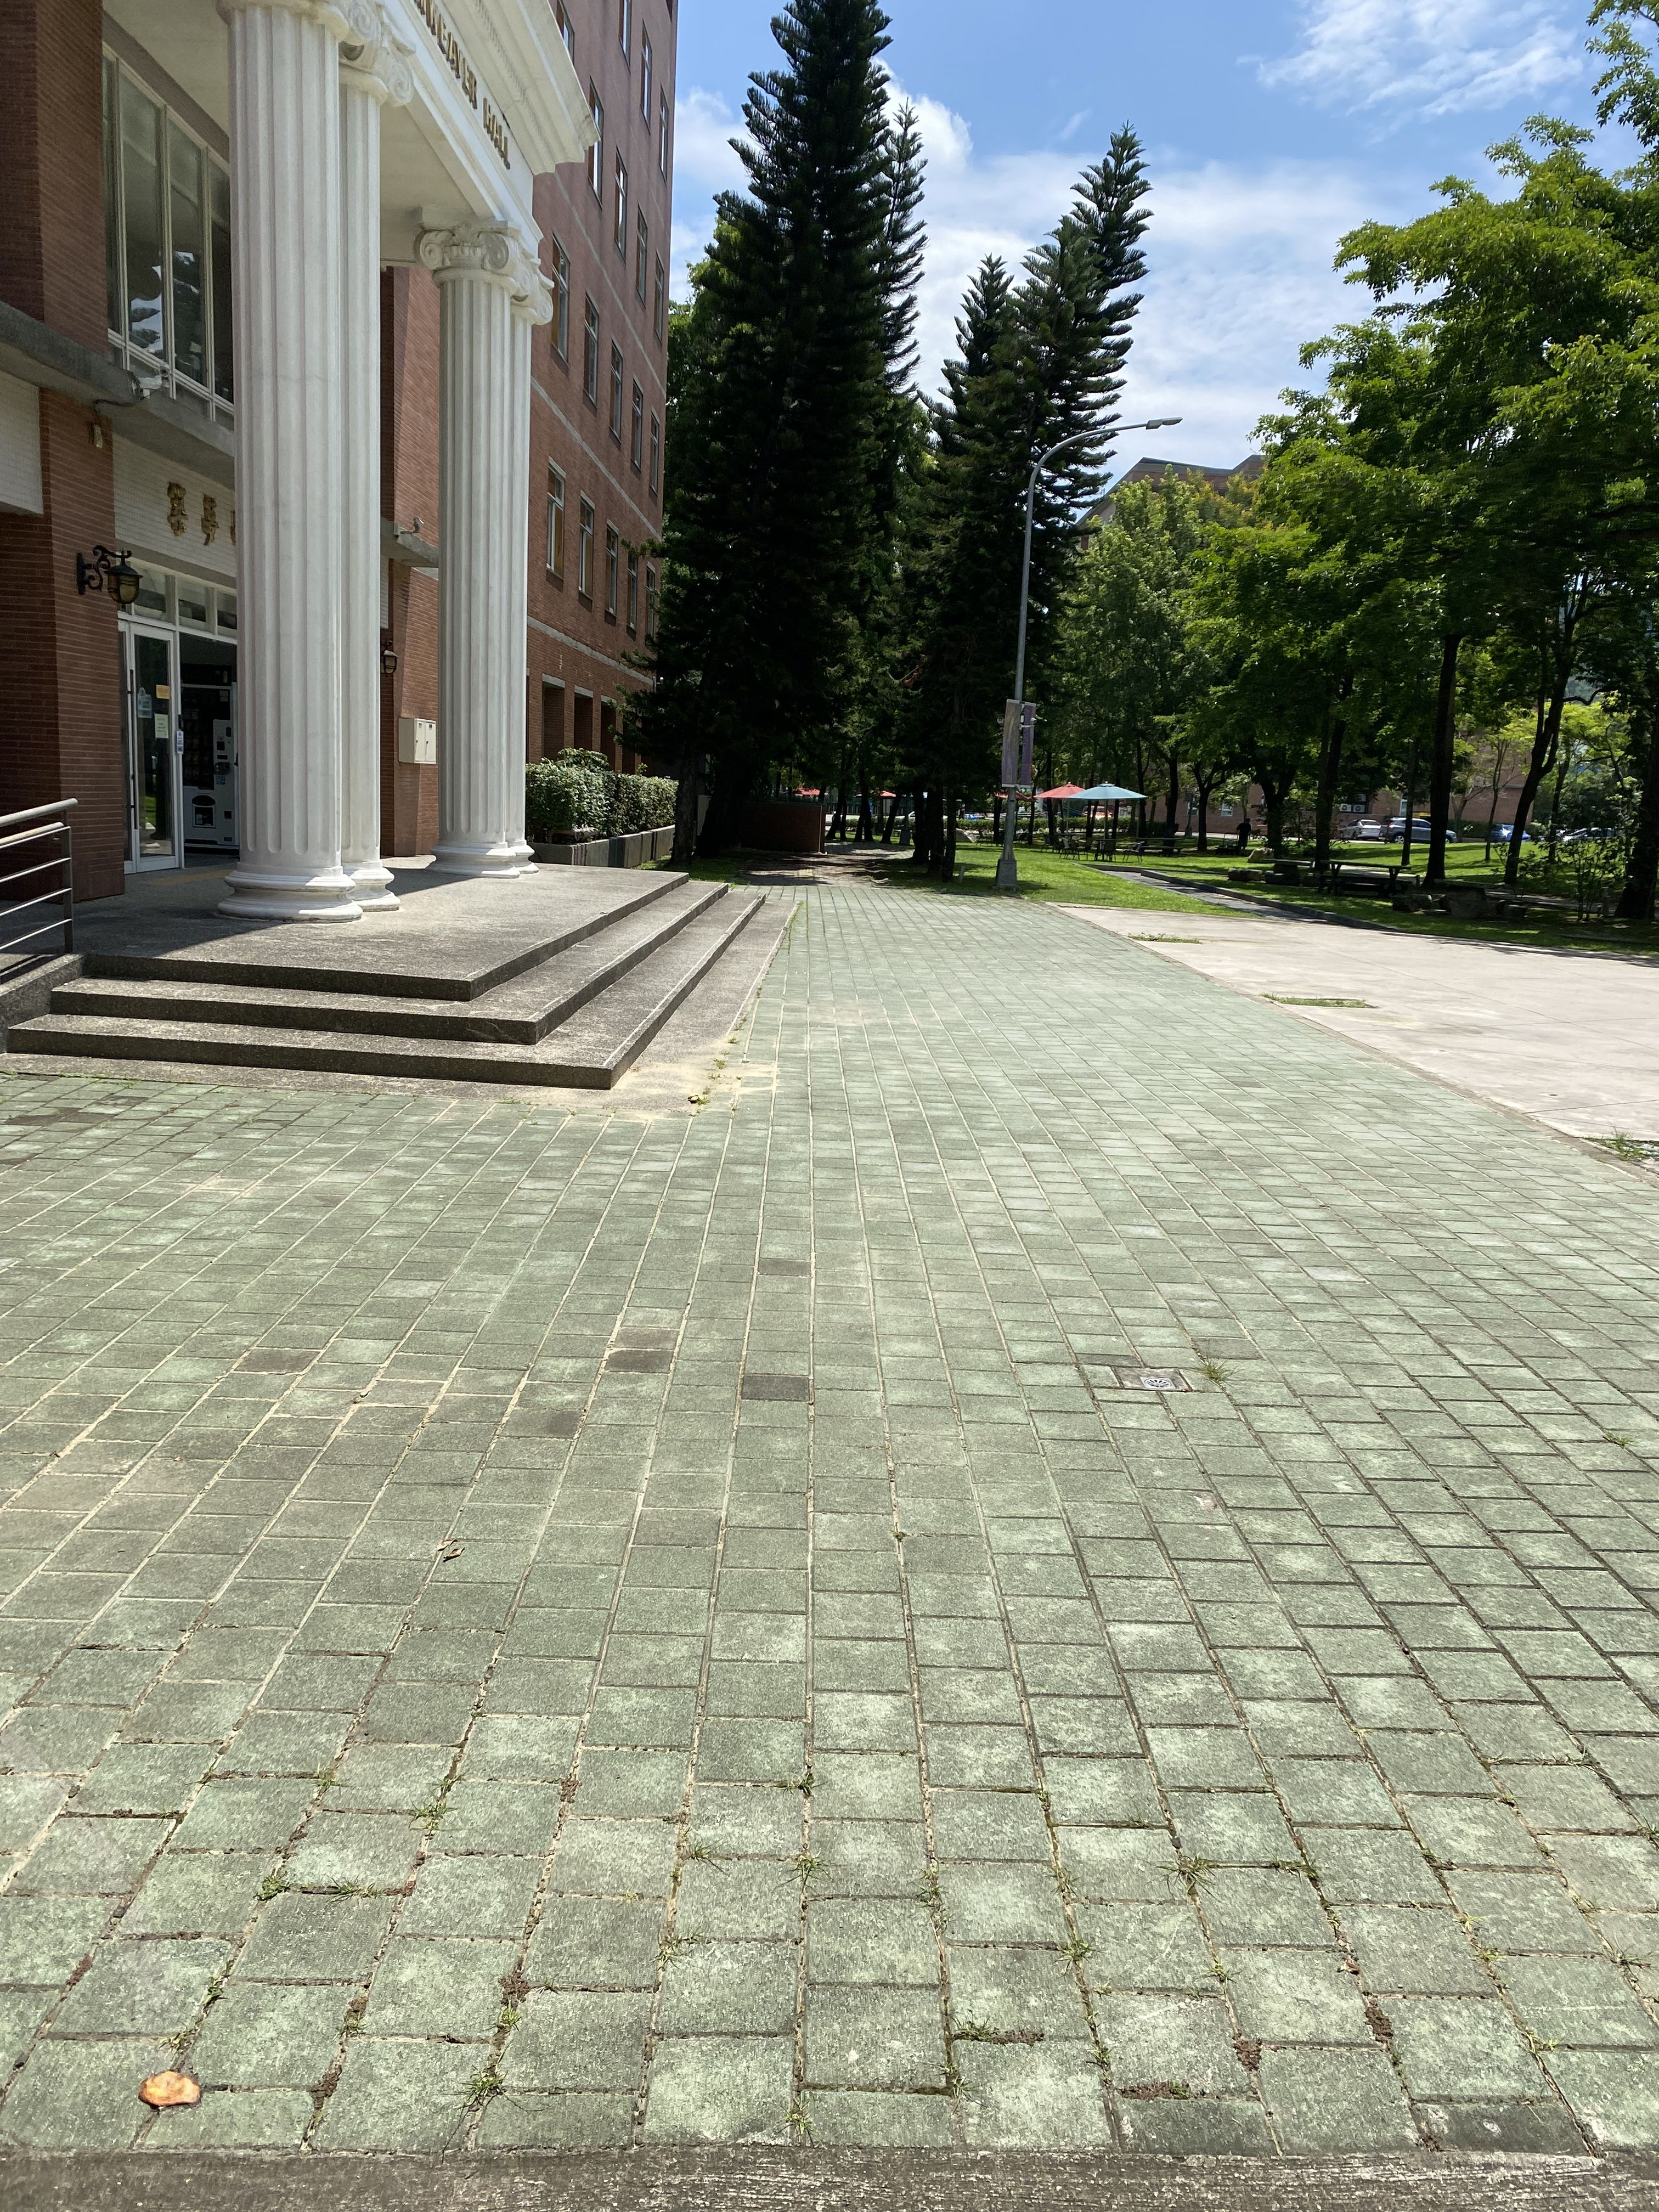0: (10, 984, 641, 2212)
sidewalk: (599, 808, 1659, 2212)
